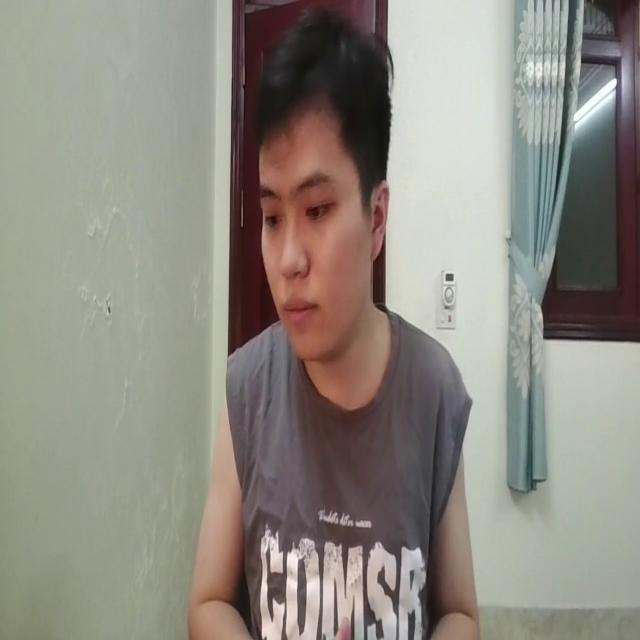student: (181, 10, 480, 640)
